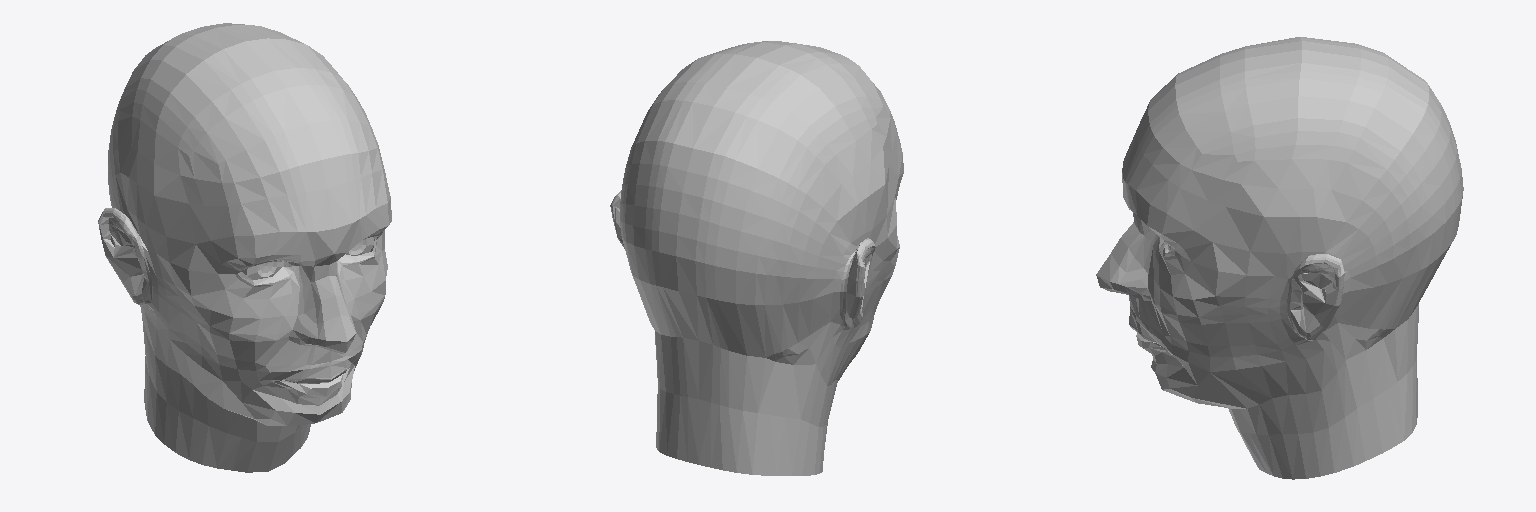
File: danimal.obj
The picture shows the model from 3 angles: view 1: azimuth 30°, elevation 25°; view 2: azimuth 150°, elevation 25°; view 3: azimuth 270°, elevation 25°; orthographic projection.
Parts seen in each view (by area): view 1: head4 Head1; view 2: head4 Head1; view 3: head4 Head1.
Boxes of the visible parts, <box> form: head4 Head1: <box>98,23,391,472</box>; head4 Head1: <box>610,41,903,475</box>; head4 Head1: <box>1096,37,1463,479</box>.
Size of the model in its own units: 25.5 by 39.58 by 31.94.